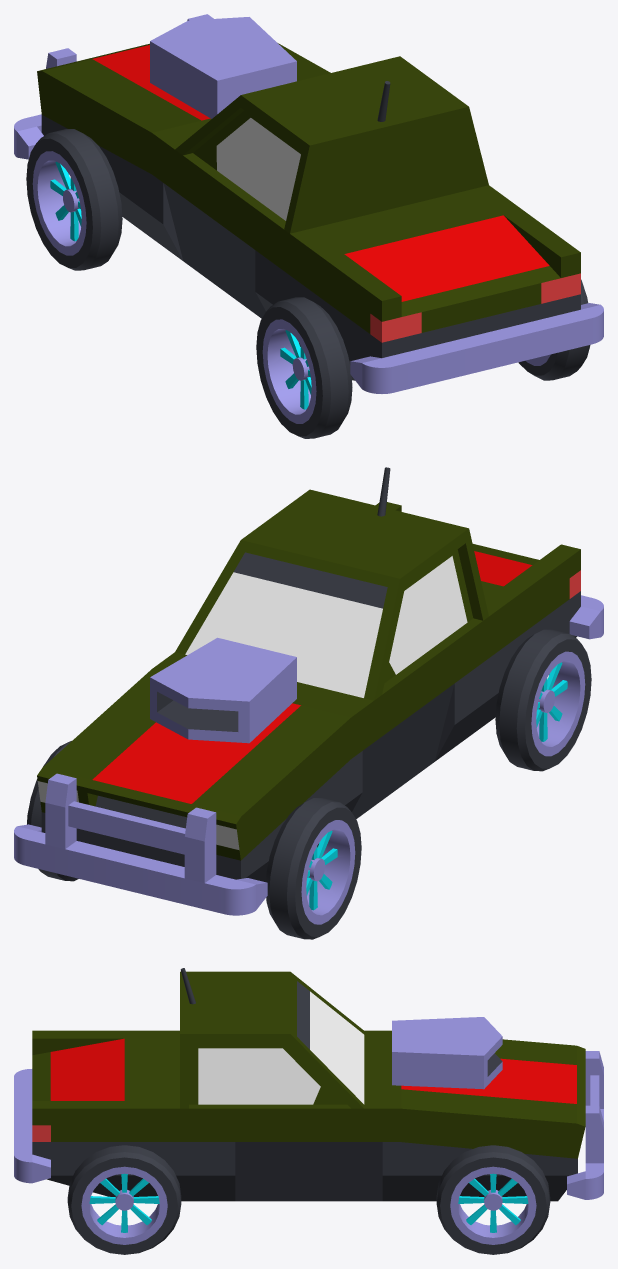
File: obstacle_sportscar.glb
3 renders of one model, top to bottom at view 1: azimuth 30°, elevation 25°; view 2: azimuth 150°, elevation 25°; view 3: azimuth 270°, elevation 25°, orthographic. The views are drawn at different scales.
Visible parts, largest first — view 1: mergedBlocks(Clone); view 2: mergedBlocks(Clone); view 3: mergedBlocks(Clone).
Part boxes in pixels (x1,y1,x2,y2): mergedBlocks(Clone): (14, 14, 603, 438); mergedBlocks(Clone): (14, 467, 603, 939); mergedBlocks(Clone): (14, 968, 603, 1254).
Size of the model in its own units: 1.35 by 1.41 by 3.2.
Materials: 1 (1 with a texture image).
